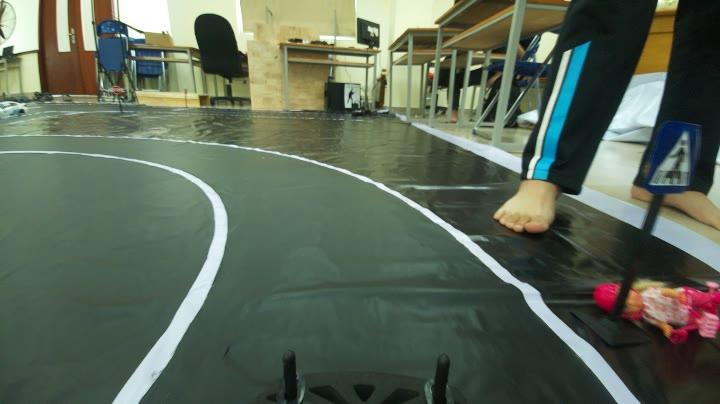crosswalk: (629, 117, 713, 196)
